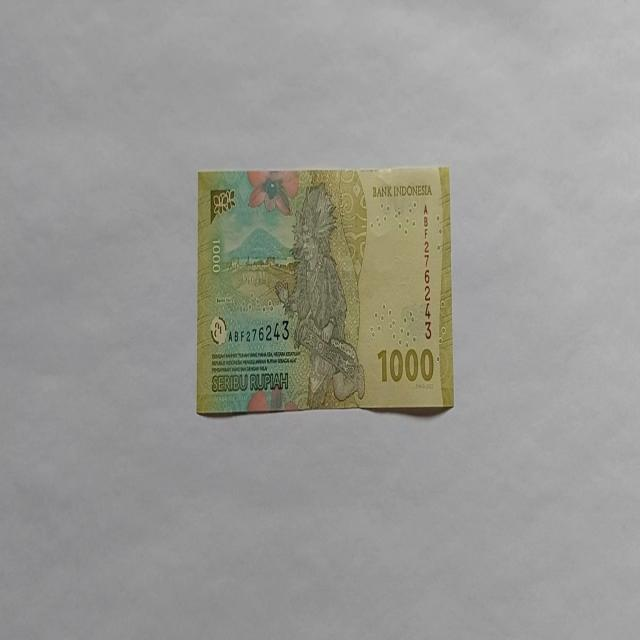seribu rupiah kertas: (196, 165, 454, 415)
